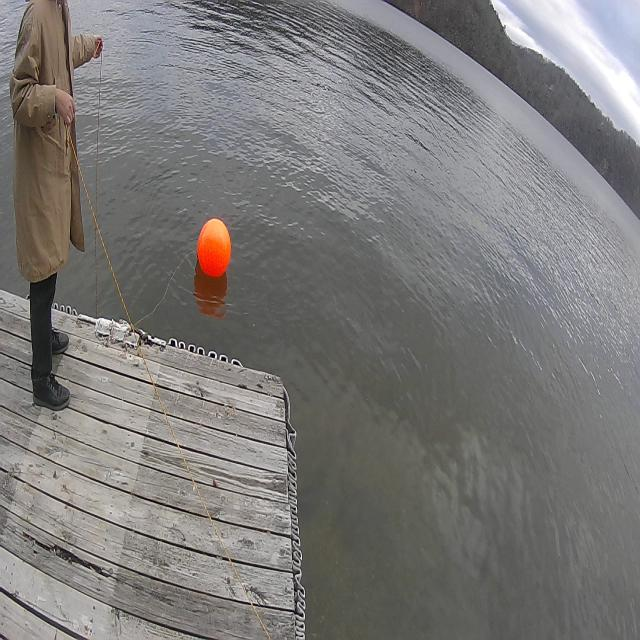Buoy: (195, 215, 232, 282)
